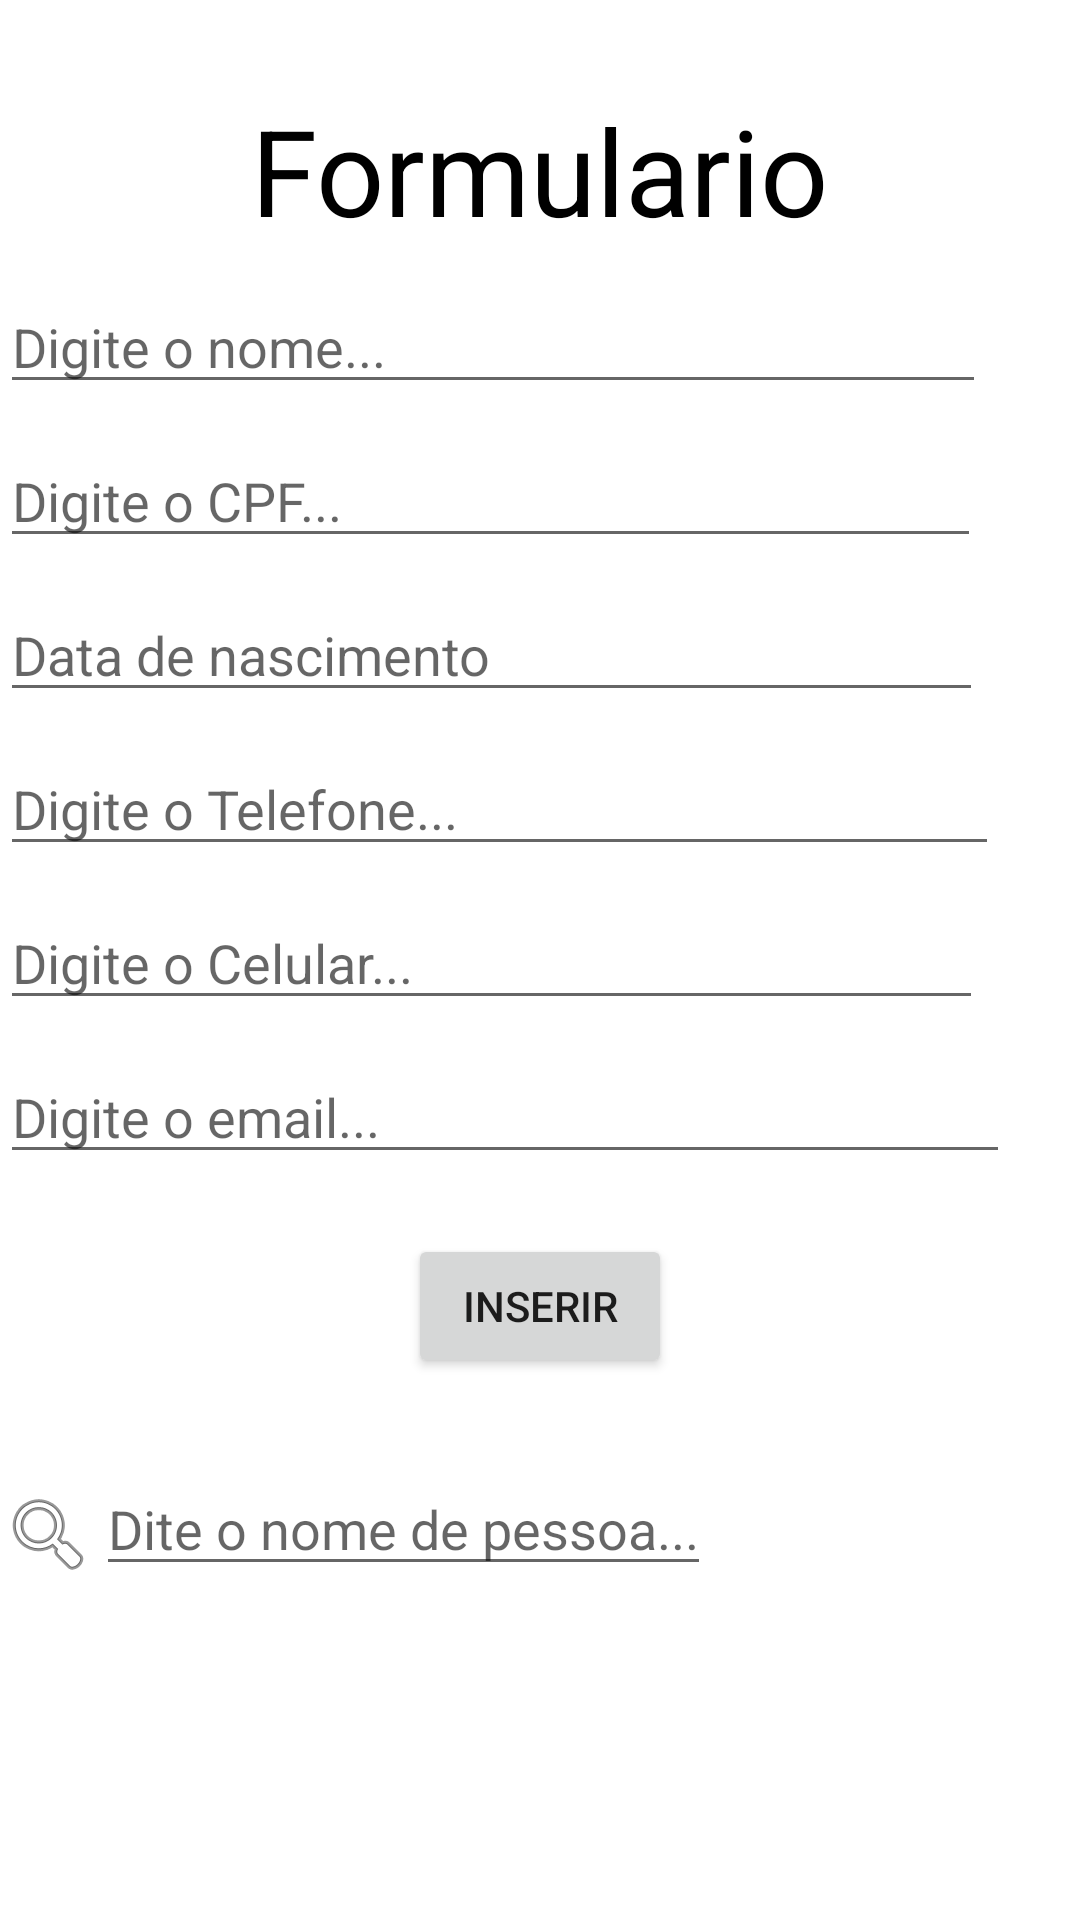

Where icons sit on this 1080 × 1920 app screen, as Rect(x1, y1, x2, y2):
search: Rect(12, 1499, 84, 1570)
